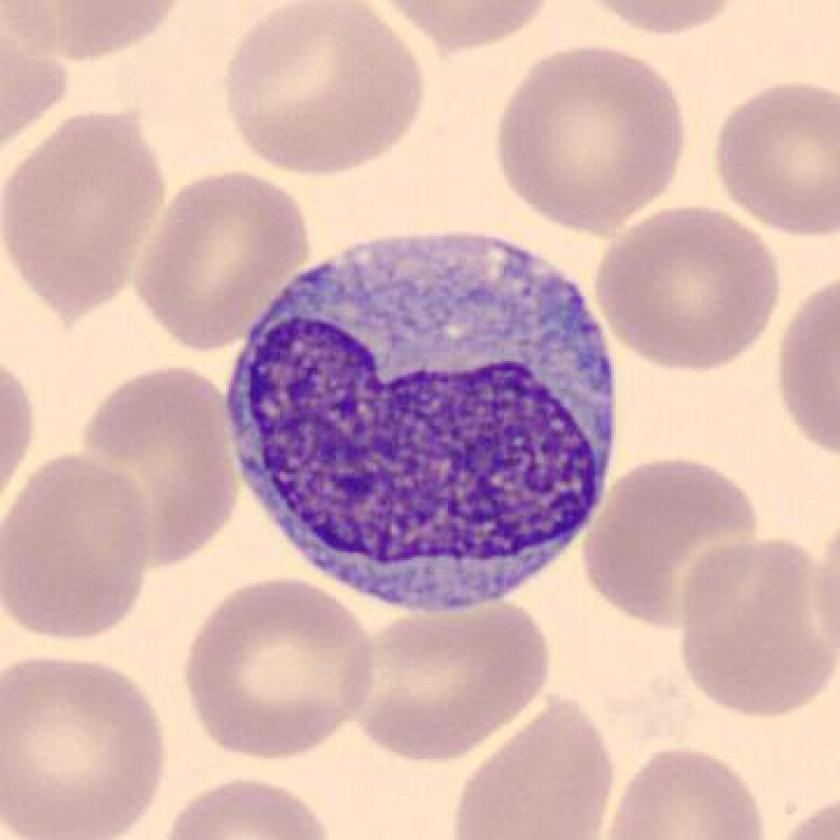monocyte: (204, 207, 645, 630)
